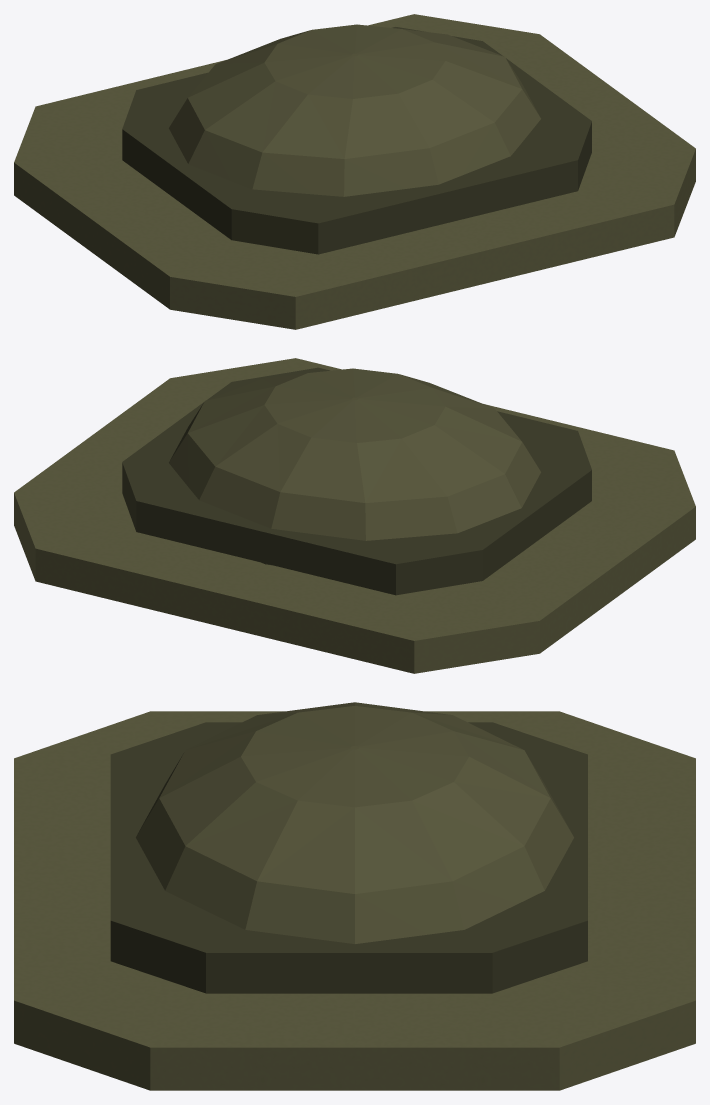
File: boonie.glb
The picture shows the model from 3 angles, top to bottom: view 1: azimuth 30°, elevation 25°; view 2: azimuth 150°, elevation 25°; view 3: azimuth 270°, elevation 25°; orthographic projection. The views are drawn at different scales.
Visible parts, largest first — view 1: Boonie.002; view 2: Boonie.002; view 3: Boonie.002.
Boxes of the visible parts, x1,y1,x2,y2 form: Boonie.002: [14, 14, 695, 329]; Boonie.002: [14, 358, 695, 673]; Boonie.002: [14, 702, 695, 1090].
Size of the model in its own units: 0.903 by 0.219 by 0.774.
Materials: 2 (1 with a texture image).
